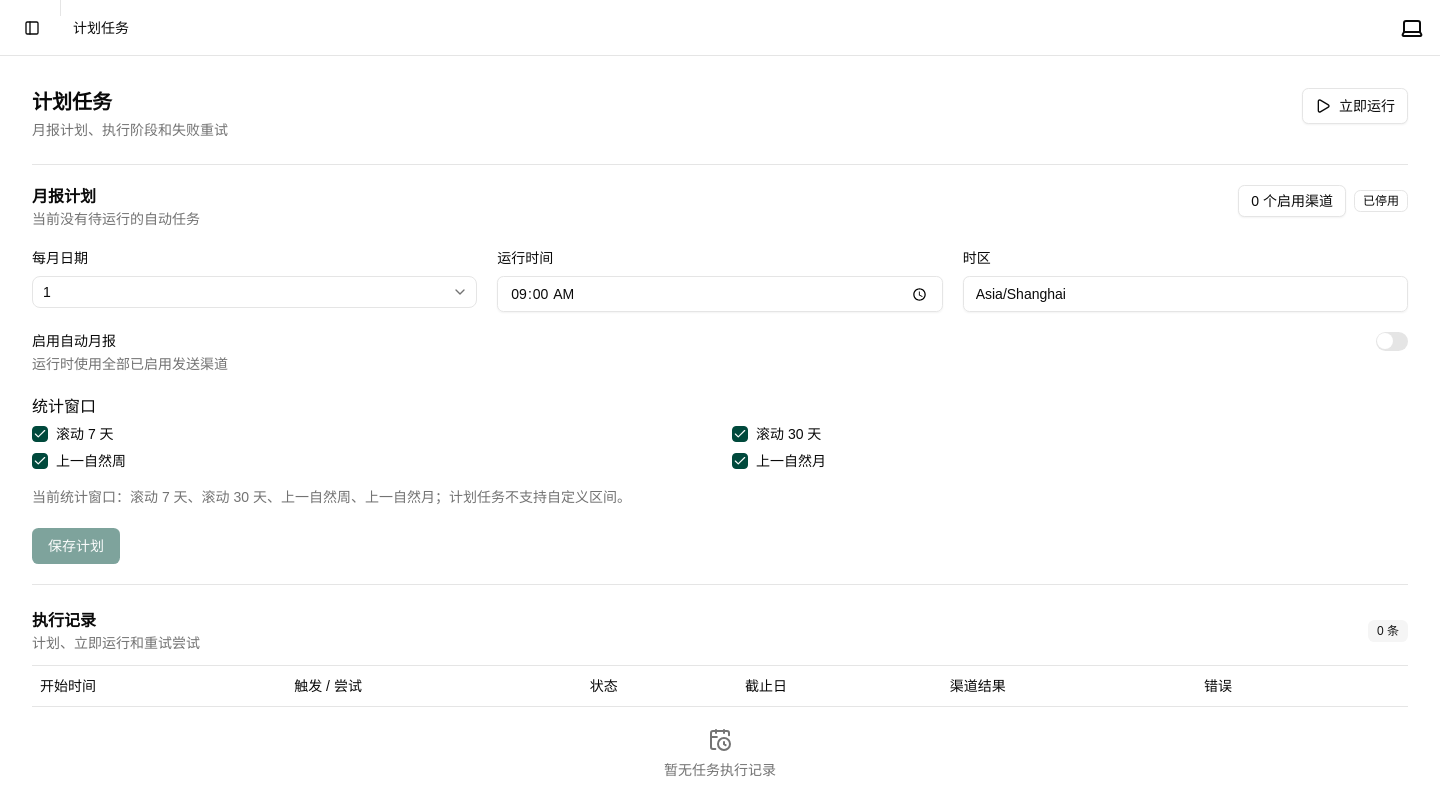
schedule page short month strategy › selects the month day without any numeric day input
What coordinates should you click on to do the following:
click the dropdown named "每月日期"
I would click on:
 (47, 292)
Its box is [32,276,477,308].
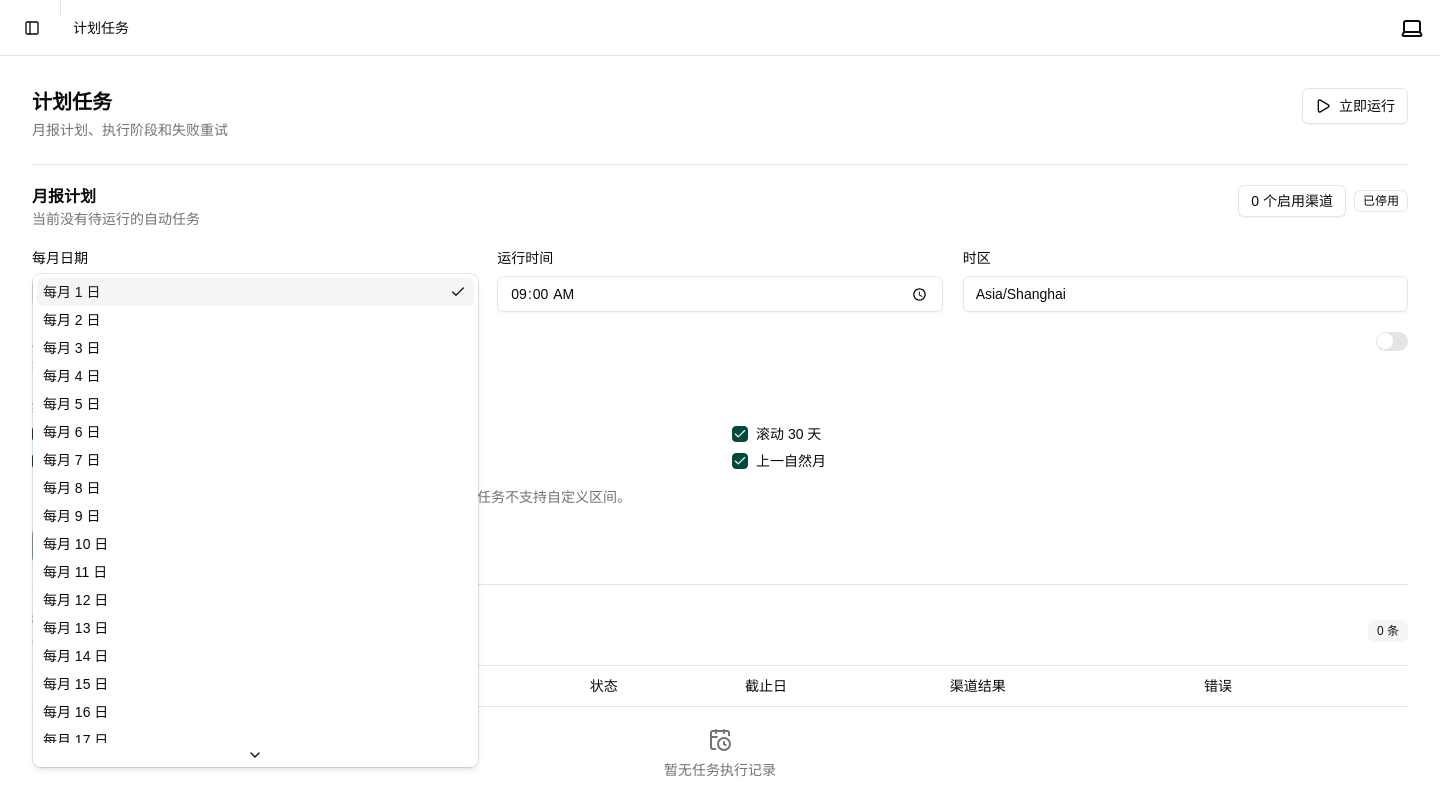
What coordinates should you click on to do the following:
click the option "每月 12 日"
I would click on:
 (76, 600)
Its box is [43,592,108,608].
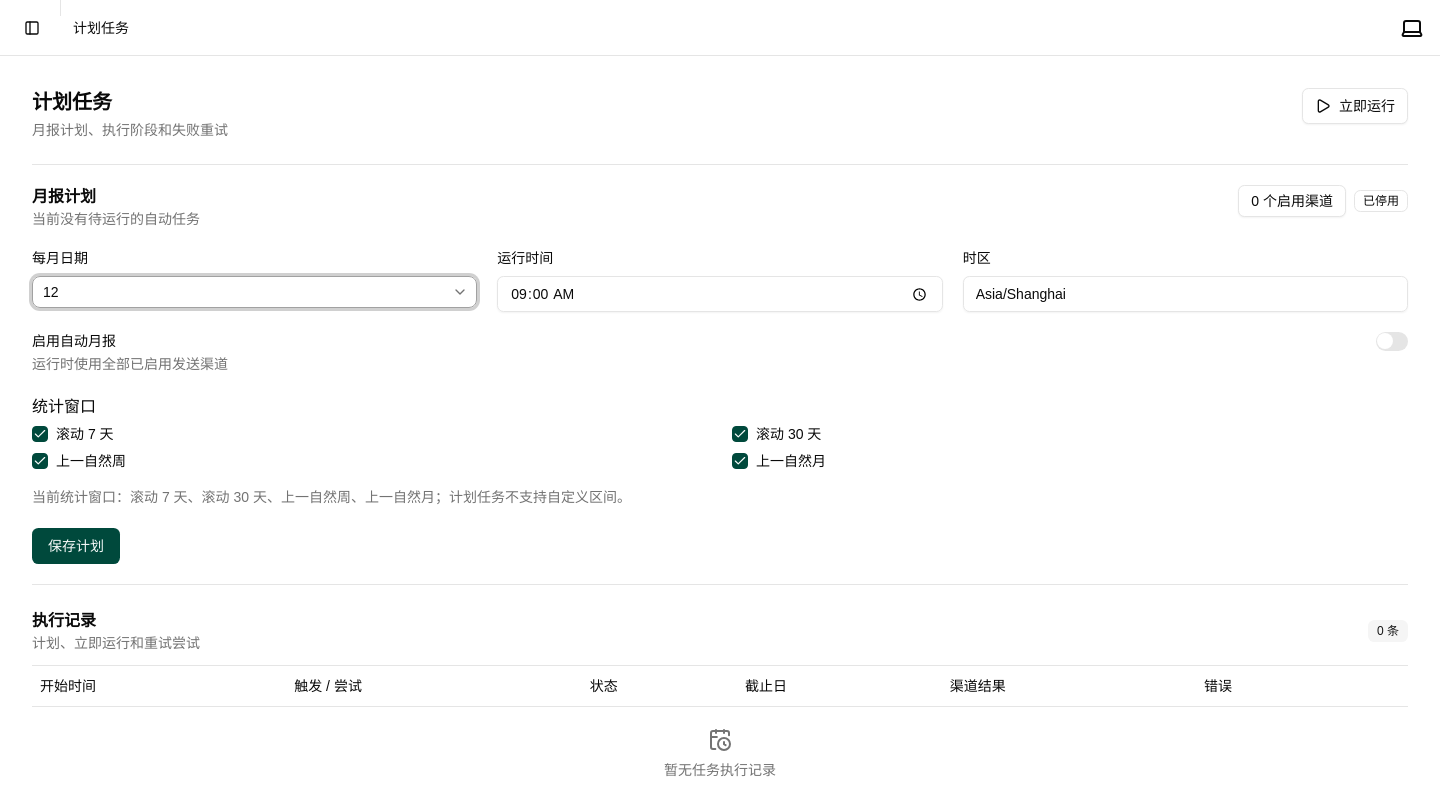
Now the dropdown named "每月日期" shows "12", box [32,276,477,308]
